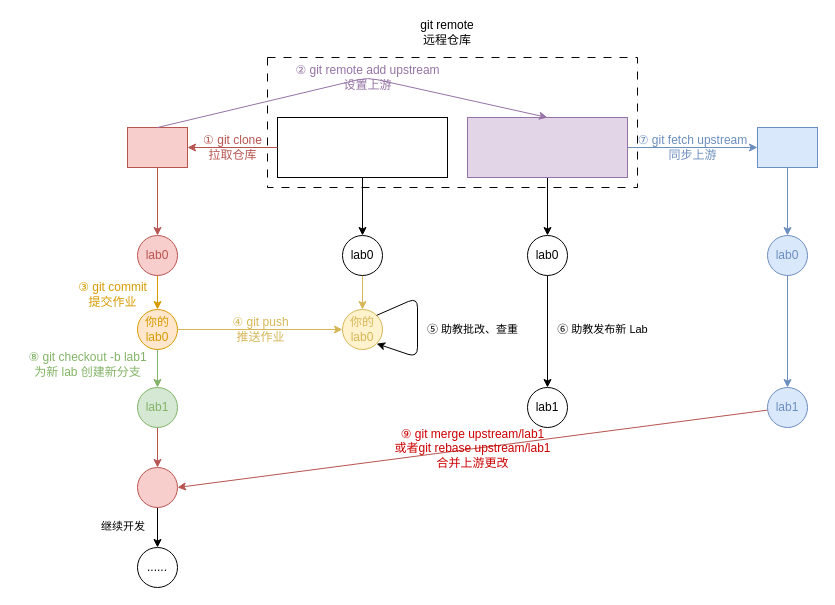
The diagram is 835 pixels wide and 605 high, and some of its shapes have lost their labels. Each missing label, with the centre of its shape:
"origin（学生私有仓库） git@git.zju.edu.cn:os/2025/..." goes at (362,147).
"upstream（发布仓库） git@git.zju.edu.cn:os/code.git" goes at (547,147).
"合并的 lab1" goes at (157,487).
"本地 origin" goes at (157,147).
"本地 upstream" goes at (787,147).
